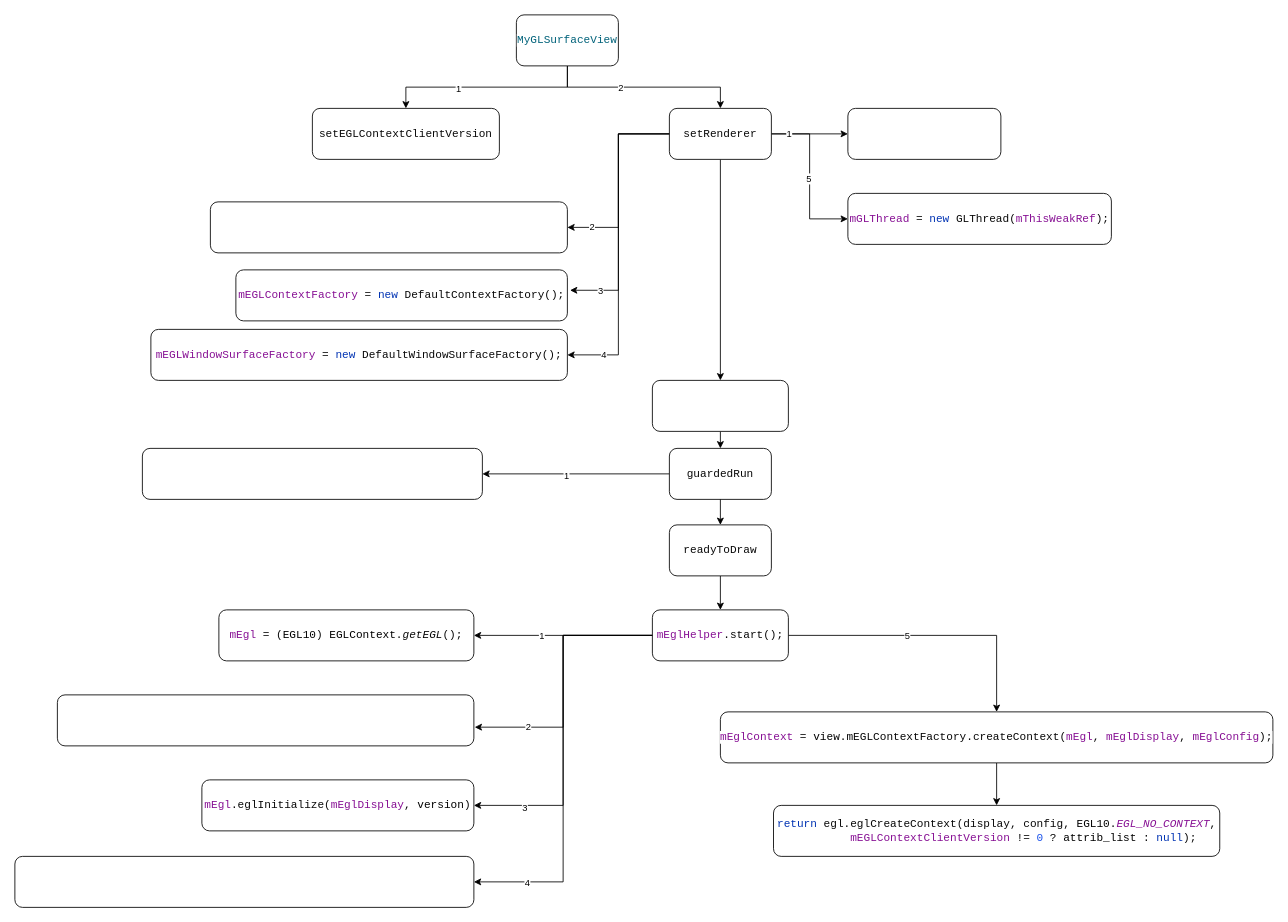
Some shapes in this 1288 by 922 pixel diagram are drawn without their labels. Here are the shapes that lost their labels. From the top down, the box of each, then its label:
(847, 108, 1001, 159): checkRenderThreadState
(210, 201, 567, 253): mEGLConfigChooser = new SimpleEGLConfigChooser( true );
(652, 380, 788, 431): mGLThread .start();
(142, 448, 482, 499): mEglHelper = new EglHelper( mGLSurfaceViewWeakRef );
(57, 694, 474, 746): mEglDisplay = mEgl .eglGetDisplay( EGL10 . EGL_DEFAULT_DISPLAY );
(14, 856, 474, 907): mEglConfig = view .mEGLConfigChooser.chooseConfig( mEgl , mEglDisplay );
